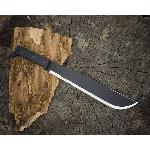Golok: (12, 42, 144, 116)
